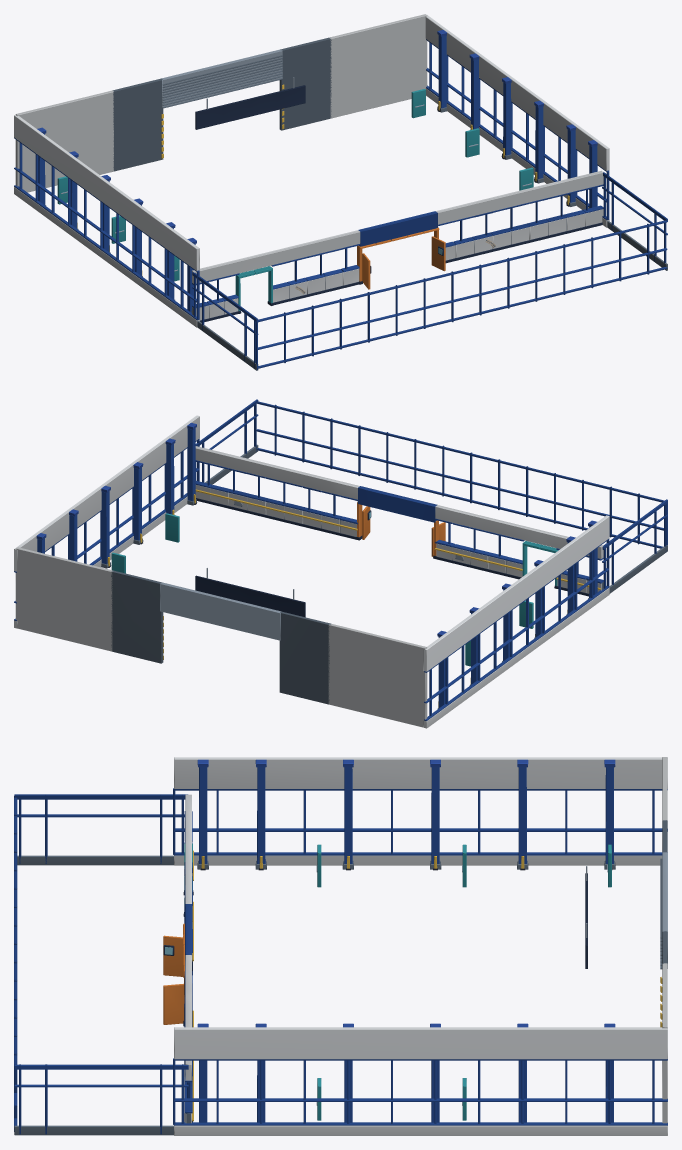
The model's file is terminal_shell.glb.
3 renders of one model, top to bottom at view 1: azimuth 30°, elevation 25°; view 2: azimuth 150°, elevation 25°; view 3: azimuth 270°, elevation 25°, orthographic. The views are drawn at different scales.
Parts seen in each view (by area): view 1: terminal_shell; view 2: terminal_shell; view 3: terminal_shell.
Part boxes in pixels (bbox=[...]): terminal_shell: bbox=[14, 14, 667, 370]; terminal_shell: bbox=[14, 399, 667, 728]; terminal_shell: bbox=[14, 757, 667, 1135].
Bounding box in the file's own units: 44.36 × 8.2 × 45.02.
